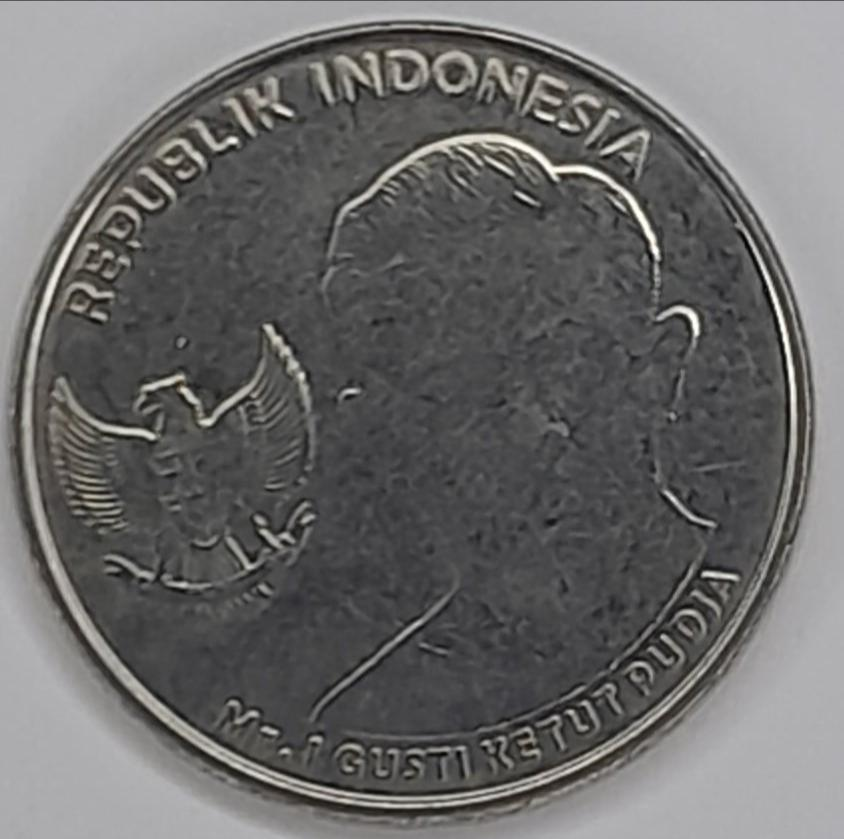coin_1000_e2016: (14, 17, 833, 839)
